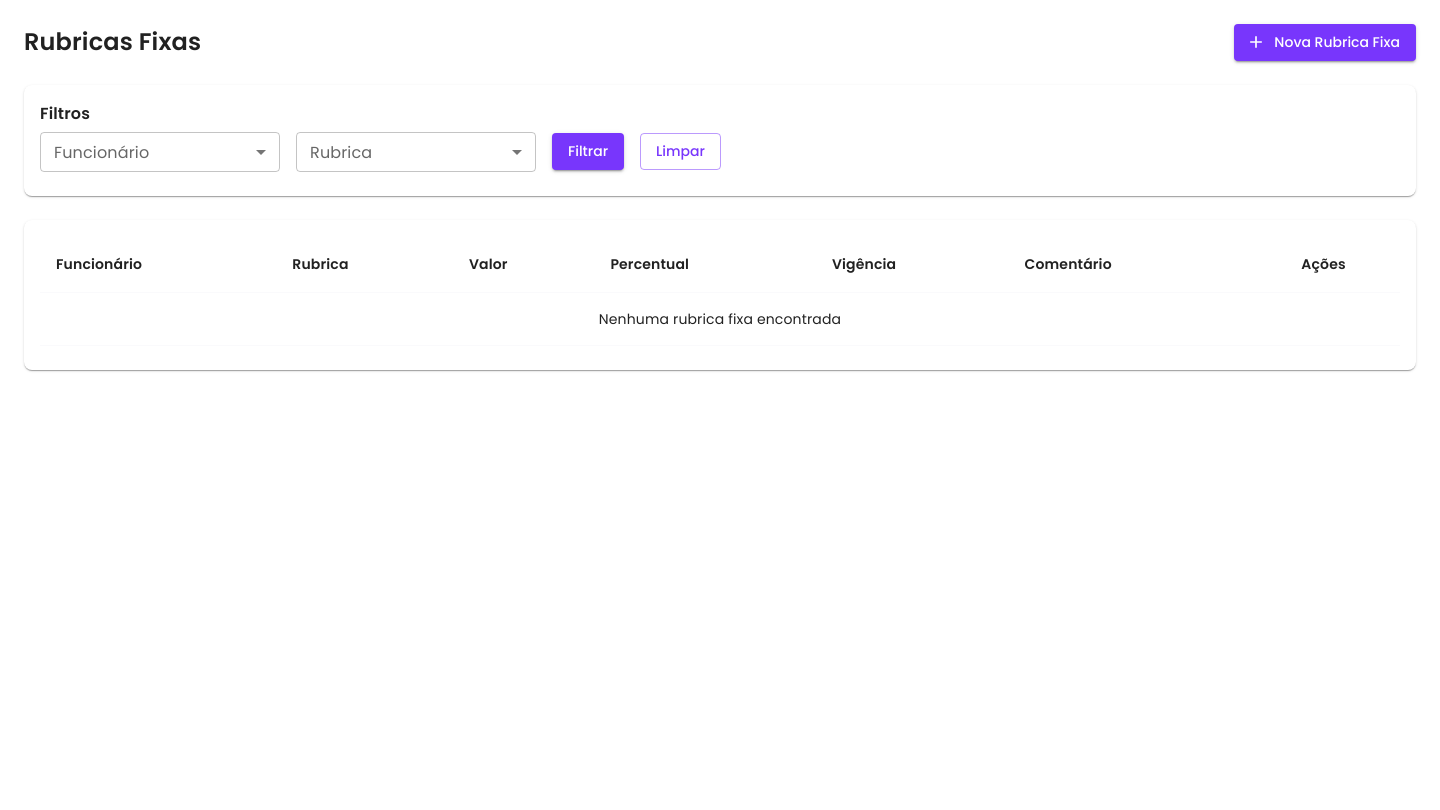
it: RubricasFixas page › closes dialog on cancel
What coordinates should you click on to do the following:
click the button "Nova Rubrica Fixa"
I would click on:
 (1325, 42)
Its box is [1234,24,1416,60].
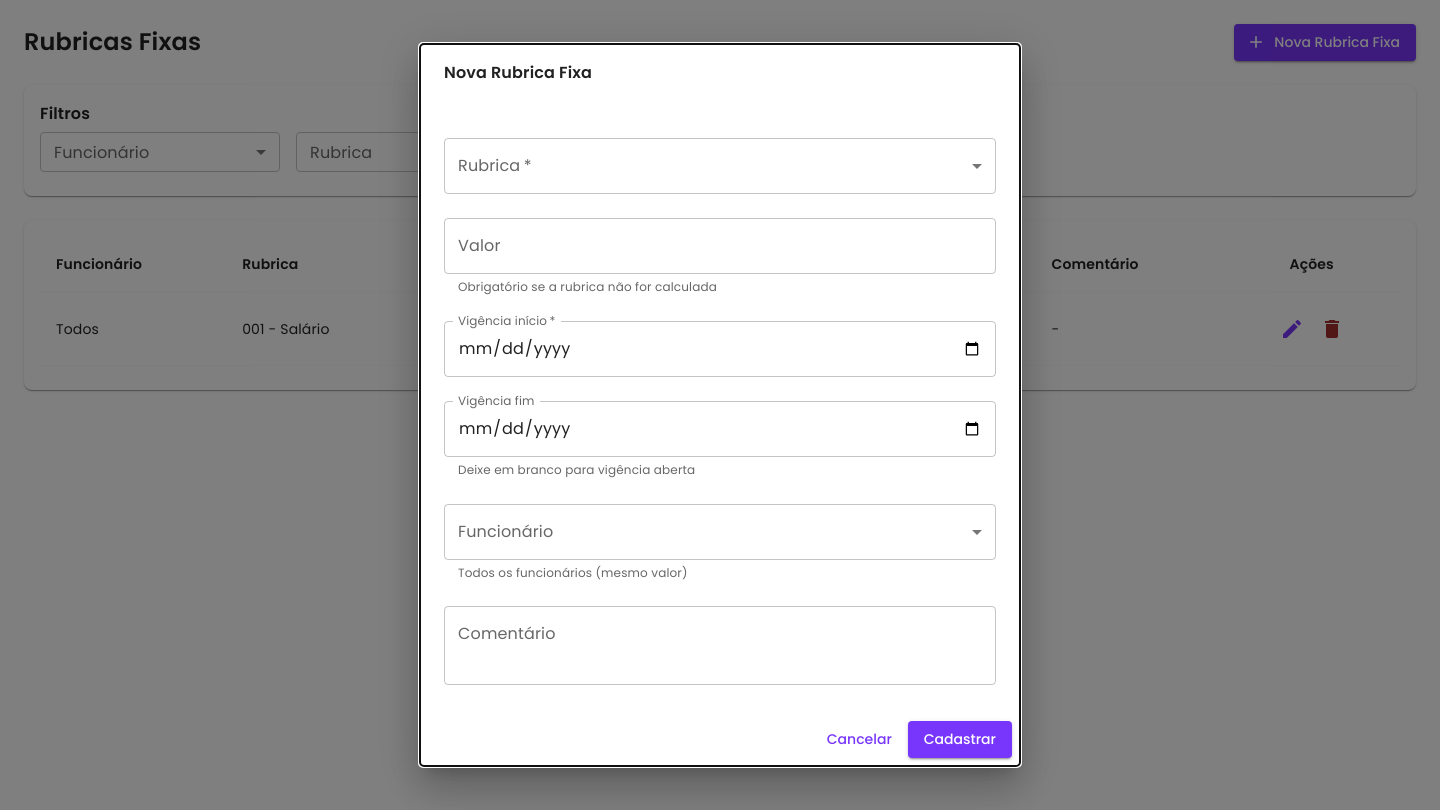
Expected: the dialog is shown, [420,44,1020,766]
What coordinates should you click on to do the following:
click the button "Cancelar"
I would click on:
 (859, 740)
Its box is [819,721,900,758].
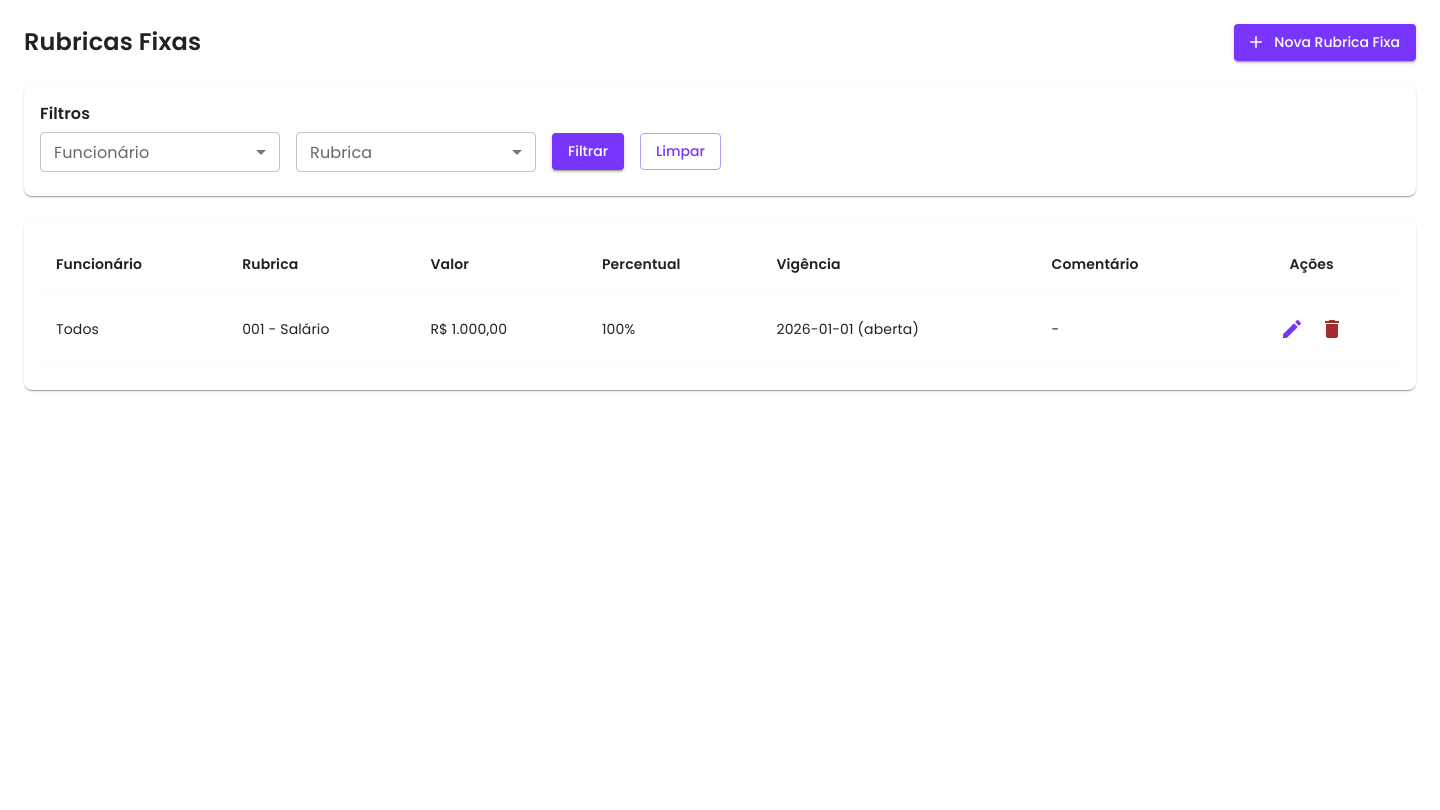
Expected: the dialog is gone
